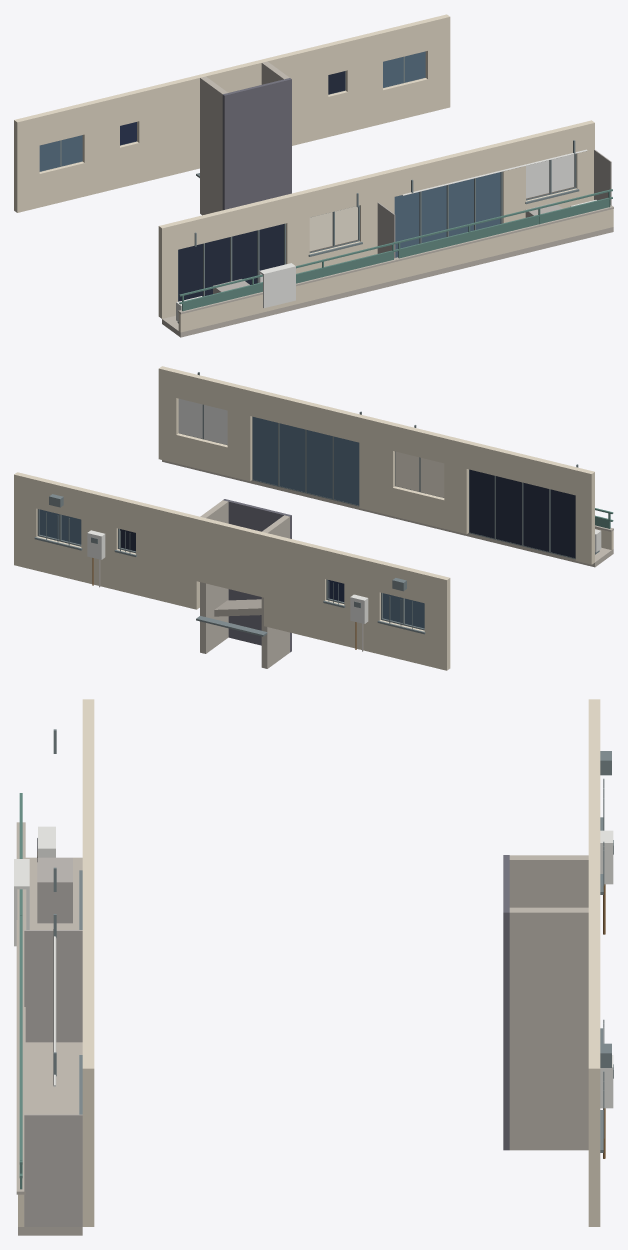
The model's file is tb_danchi_module_floor_01.fbx.
3 views of the same model, one above another, from view 1: azimuth 30°, elevation 25°; view 2: azimuth 150°, elevation 25°; view 3: azimuth 270°, elevation 25° (orthographic). The views are drawn at different scales.
Parts seen in each view (by area): view 1: tb_danchi_module_floor_01; view 2: tb_danchi_module_floor_01; view 3: tb_danchi_module_floor_01.
Part boxes in pixels (x1,y1,x2,y2): tb_danchi_module_floor_01: [14, 14, 613, 337]; tb_danchi_module_floor_01: [14, 366, 613, 670]; tb_danchi_module_floor_01: [14, 699, 613, 1235].
Size of what is drawn, in the model's own units: 13.5 by 4.05 by 9.27.
2 materials, 2 textured.
